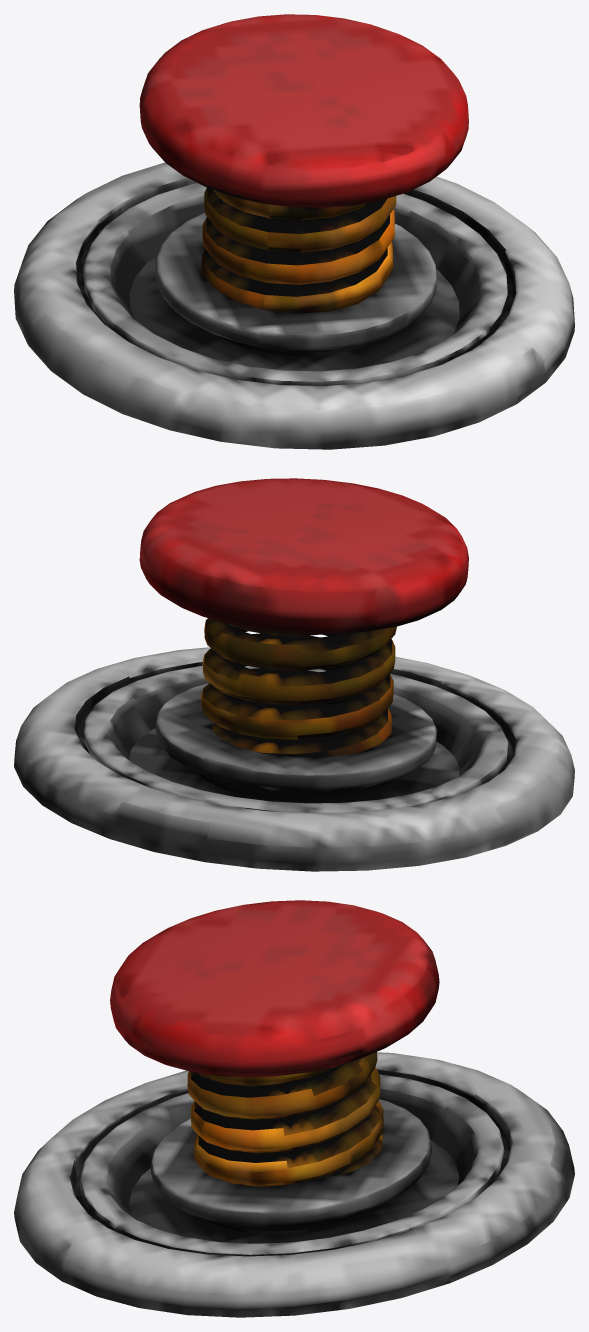
File: button.fbx
3 views of the same model, one above another, from view 1: azimuth 30°, elevation 25°; view 2: azimuth 150°, elevation 25°; view 3: azimuth 270°, elevation 25° (orthographic).
Visible parts, largest first — view 1: Button2, Button; view 2: Button2, Button; view 3: Button2, Button.
Part boxes in pixels (x1=…): Button2: x1=14, y1=162, x2=574, y2=449; Button: x1=139, y1=14, x2=468, y2=313; Button2: x1=14, y1=647, x2=574, y2=871; Button: x1=139, y1=478, x2=468, y2=757; Button2: x1=14, y1=1052, x2=574, y2=1317; Button: x1=110, y1=900, x2=439, y2=1186.
Size of the model in its own units: 198 by 104 by 198.
Materials: 1 (1 with a texture image).
